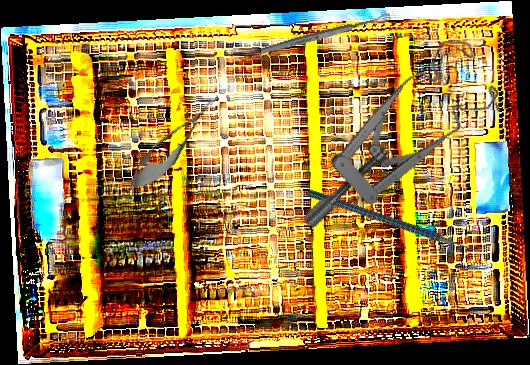Chopper: (305, 135, 491, 303)
Micro Scissor: (120, 90, 224, 201)
Speculum: (262, 29, 522, 232)
Surgical Spoon: (259, 12, 392, 56)
